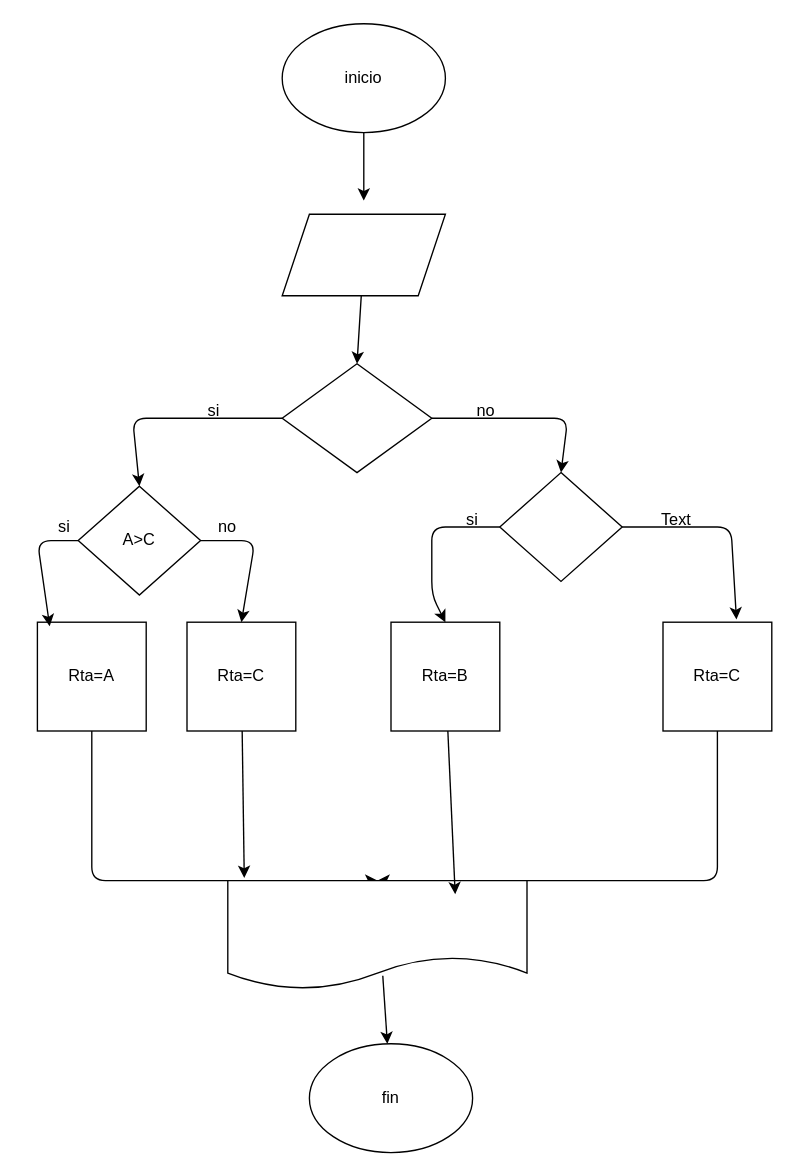
This 796x1176 diagram has some shape labels left out. Here are the shapes that lost their labels. From the top down, the centre of each, then its label:
At pixel 363 254: "A,B,C".
At pixel 356 417: "A>B".
At pixel 560 526: "B>C".
At pixel 376 934: "Rta".
